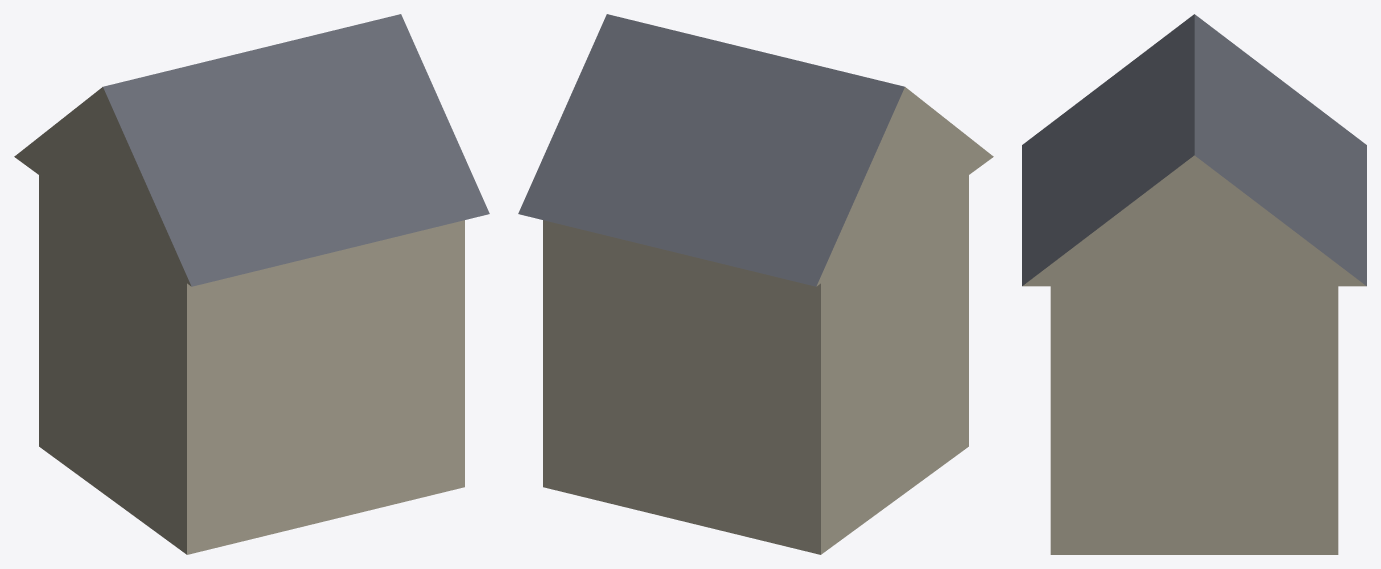
Rendered from house_2011_indiana_coach_house__draft_1904.glb.
The picture shows the model from 3 angles, left to right: view 1: azimuth 30°, elevation 25°; view 2: azimuth 150°, elevation 25°; view 3: azimuth 270°, elevation 25°; orthographic projection. The views are drawn at different scales.
Parts seen in each view (by area): view 1: house_2011_indiana_coach_house__draft_1904; view 2: house_2011_indiana_coach_house__draft_1904; view 3: house_2011_indiana_coach_house__draft_1904.
Boxes of the visible parts, x1,y1,x2,y2 form: house_2011_indiana_coach_house__draft_1904: (14,14,489,554); house_2011_indiana_coach_house__draft_1904: (518,14,993,554); house_2011_indiana_coach_house__draft_1904: (1022,14,1366,554).
Size of the model in its own units: 3.49 by 4.66 by 3.6.
